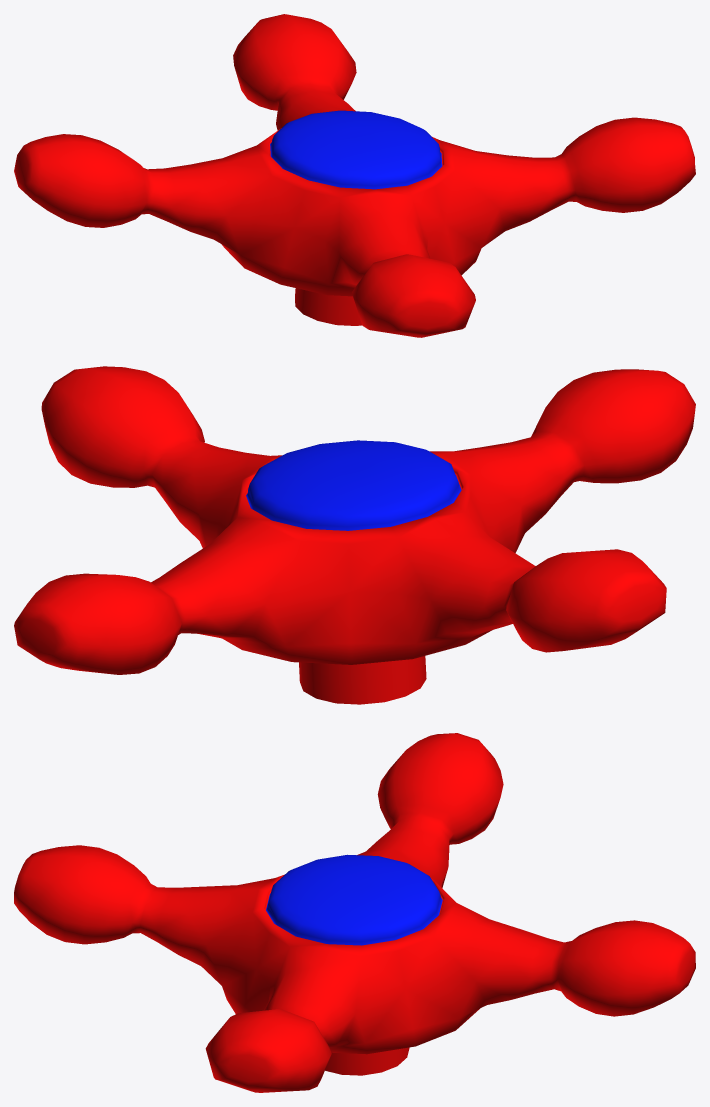
File: Sink_Tap_Handle.fbx
3 views of the same model, one above another, from view 1: azimuth 30°, elevation 25°; view 2: azimuth 150°, elevation 25°; view 3: azimuth 270°, elevation 25° (orthographic). The views are drawn at different scales.
Visible parts, largest first — view 1: Sink_Tap_Handle; view 2: Sink_Tap_Handle; view 3: Sink_Tap_Handle.
Part boxes in pixels (<box>): Sink_Tap_Handle: <box>14,14,695,337</box>; Sink_Tap_Handle: <box>14,366,695,704</box>; Sink_Tap_Handle: <box>14,733,695,1092</box>.
Size of the model in its own units: 9.74 by 3.07 by 9.8.
